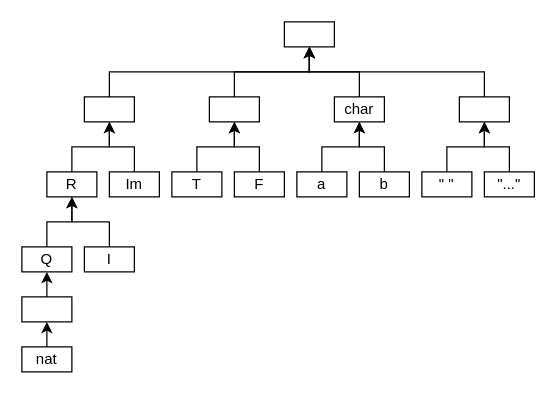
Image size: 556x394. Some labels were removed from this diagram. The centre of each missing label's shape, as x and y in pixels:
base: the point at 308,34
bool: the point at 233,109
int: the point at 46,309
num: the point at 108,109
str: the point at 483,109
